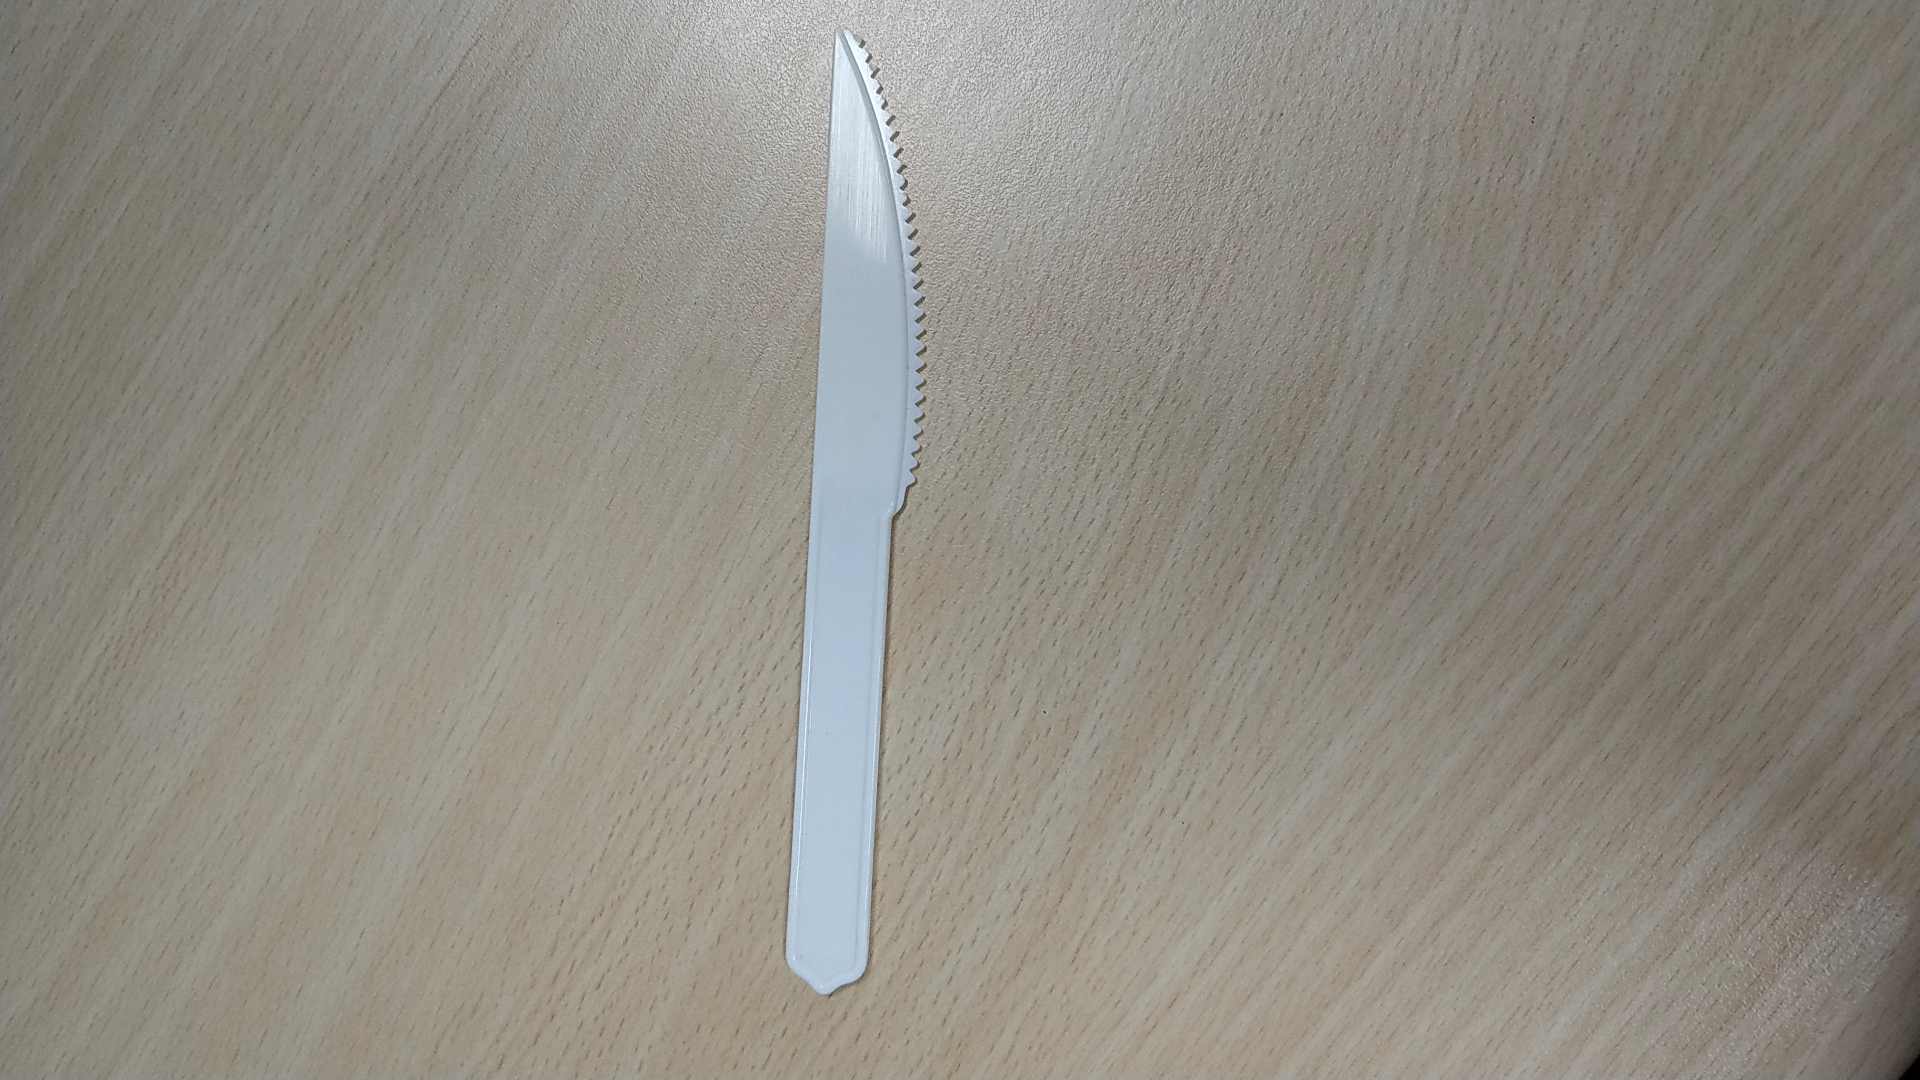knife: (750, 18, 940, 1027)
